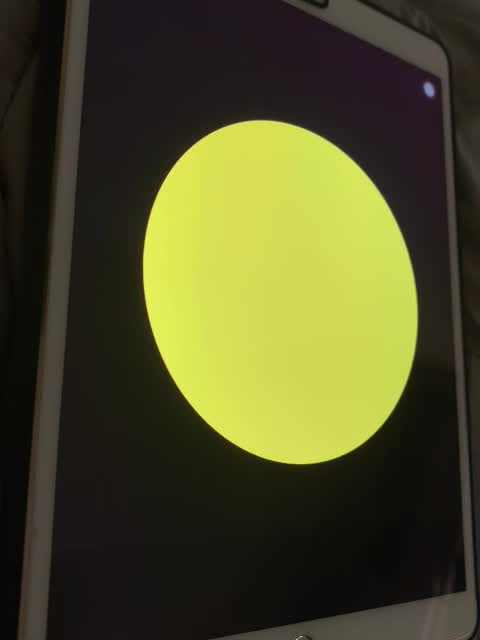left: (131, 108, 423, 473)
